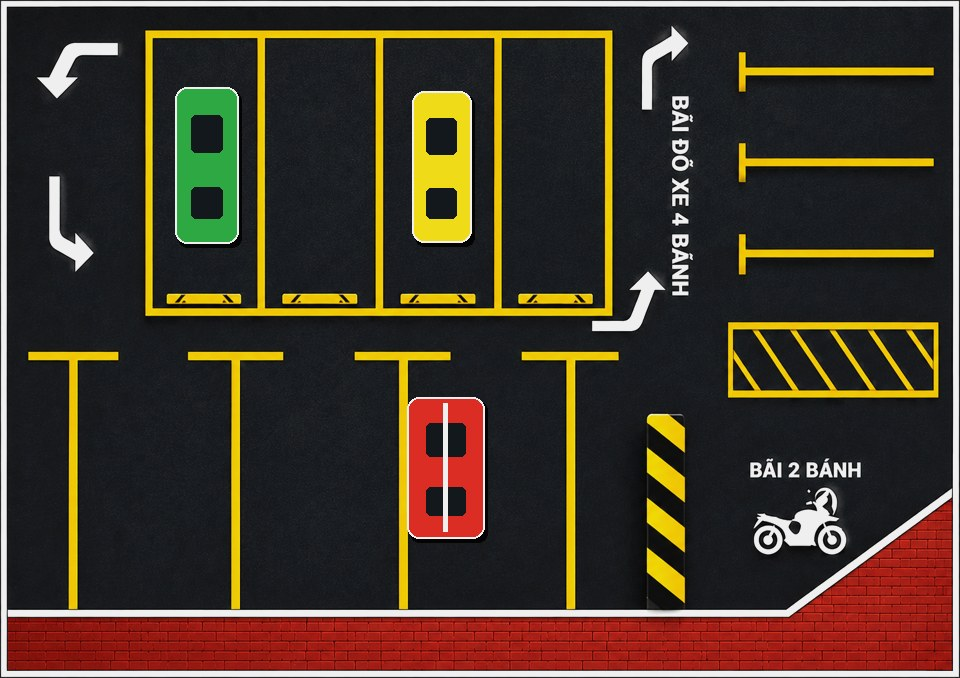empty: (35, 351, 199, 598), (201, 351, 357, 598), (524, 351, 672, 598), (267, 35, 386, 309), (505, 35, 624, 309)
occupied: (360, 351, 518, 598), (148, 35, 267, 309), (386, 35, 505, 309)
